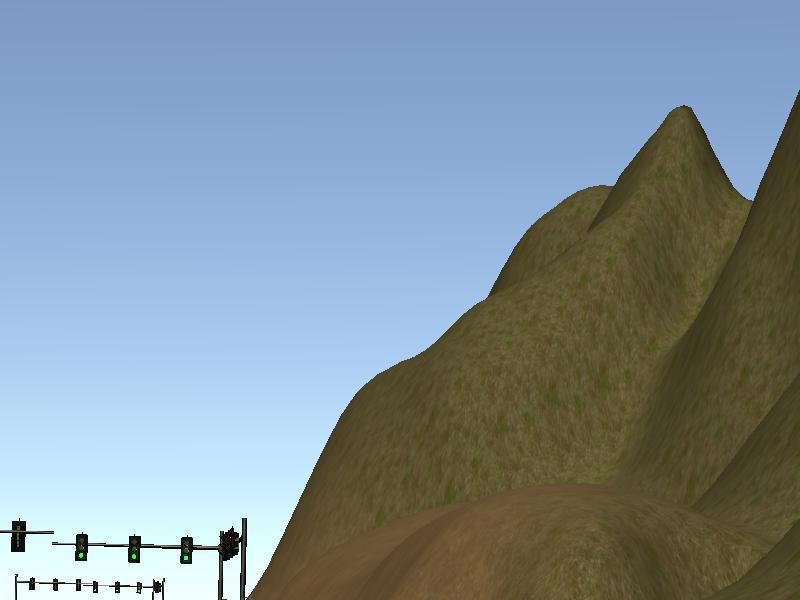Green: (128, 533, 142, 564), (74, 531, 88, 562), (179, 535, 192, 565)
